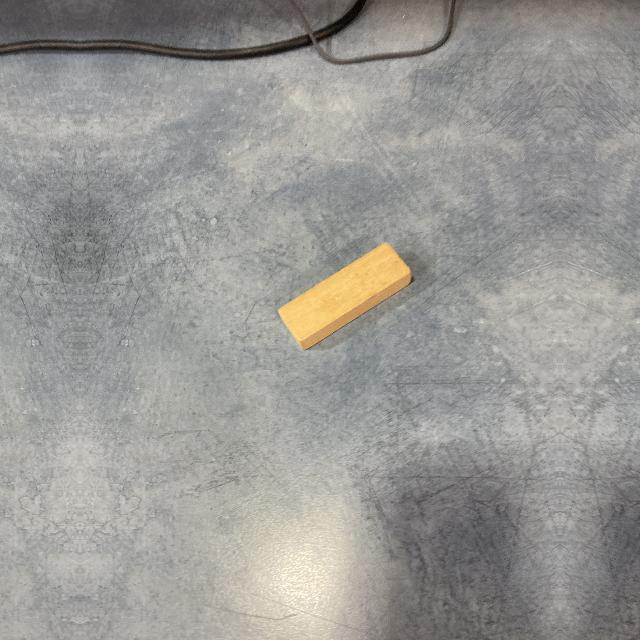jenga: (278, 244, 413, 352)
